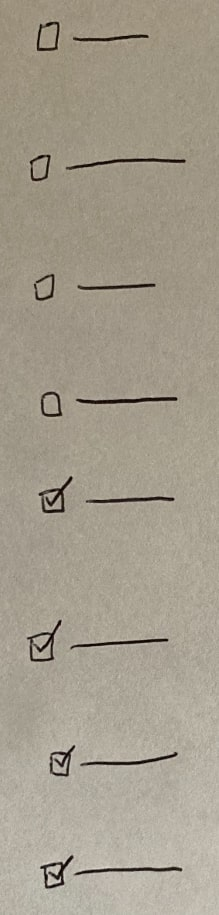checkbox: (25, 613, 178, 667), (22, 141, 194, 188), (35, 377, 185, 430), (42, 732, 184, 787), (35, 472, 184, 523), (35, 848, 188, 897), (29, 266, 165, 305), (31, 18, 155, 59)
